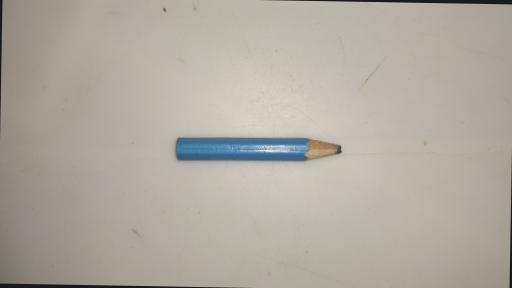Pencil: (175, 134, 343, 164)
